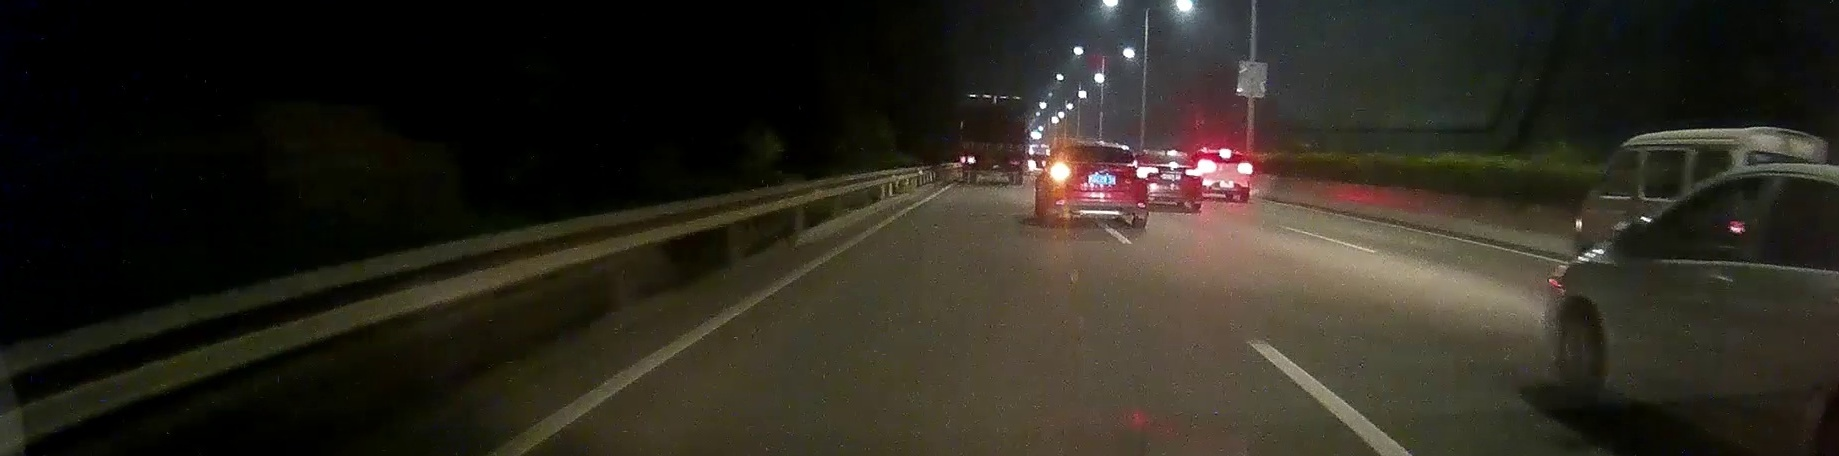L_light: (1051, 162, 1071, 182), (1197, 159, 1217, 173), (961, 156, 976, 164)
R_light: (1134, 166, 1148, 179), (1239, 162, 1253, 173), (1009, 159, 1022, 166)
T_light: (1219, 149, 1231, 159), (1091, 147, 1106, 148), (989, 147, 998, 148)
night-brake: (1197, 148, 1253, 203)
night-left: (1050, 139, 1151, 227)
night-no: (961, 94, 1029, 185)
